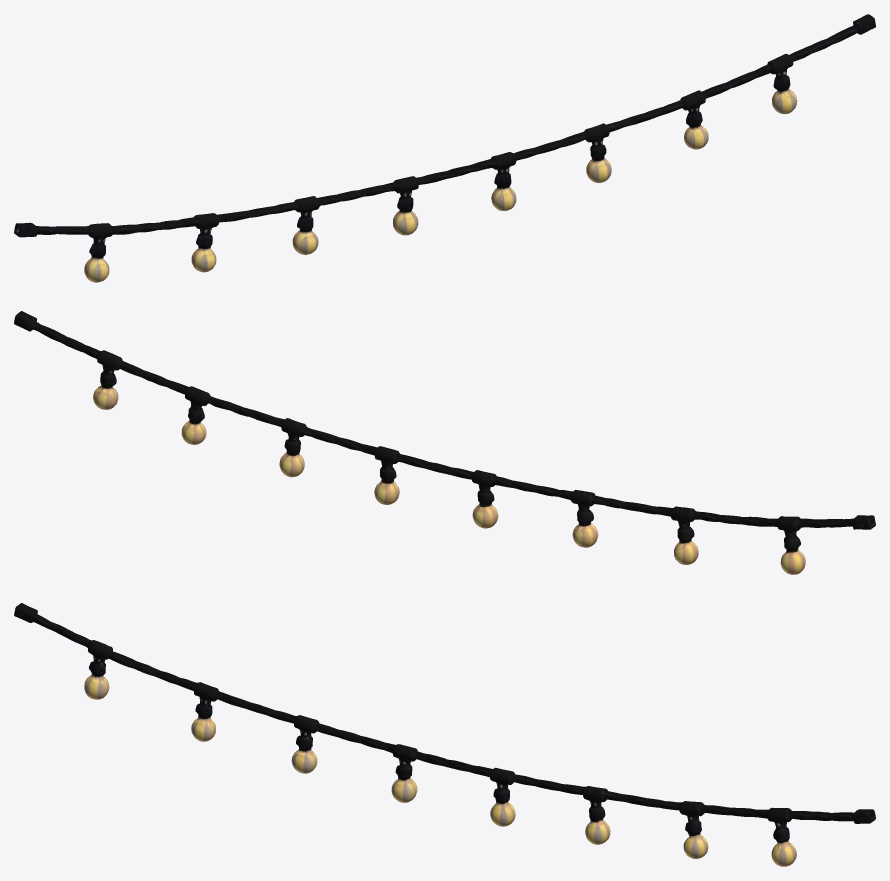
The model's file is bunting.glb.
3 renders of one model, top to bottom at view 1: azimuth 30°, elevation 25°; view 2: azimuth 150°, elevation 25°; view 3: azimuth 330°, elevation 25°, orthographic.
Parts seen in each view (by area): view 1: mesh_node; view 2: mesh_node; view 3: mesh_node.
Part boxes in pixels (x1,y1,x2,y2): mesh_node: (14,14,875,282); mesh_node: (14,311,875,574); mesh_node: (14,603,875,866).
Size of the model in its own units: 1.9 by 0.2203 by 0.0558.
1 material, 1 textured.
